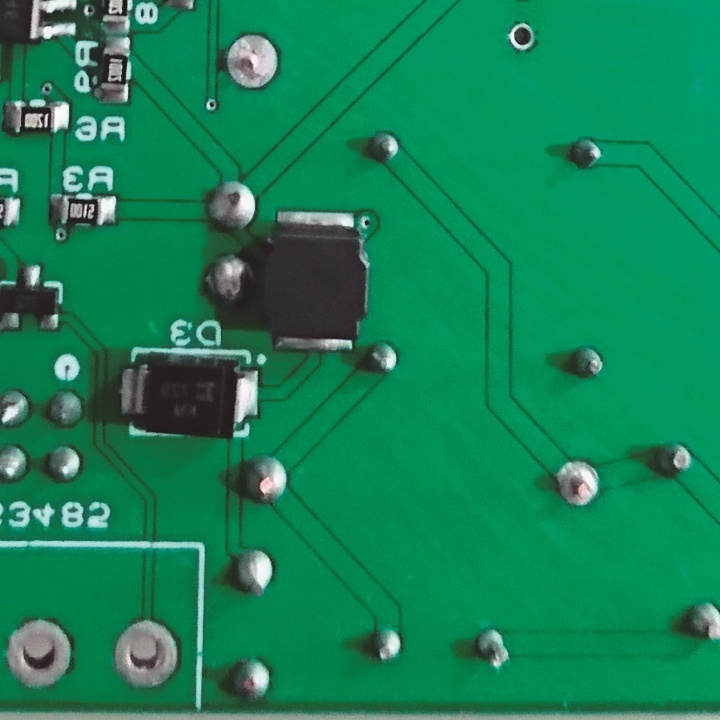F: (6, 615, 77, 692), (111, 614, 182, 689), (219, 29, 285, 94), (554, 454, 603, 512), (505, 23, 543, 56)
